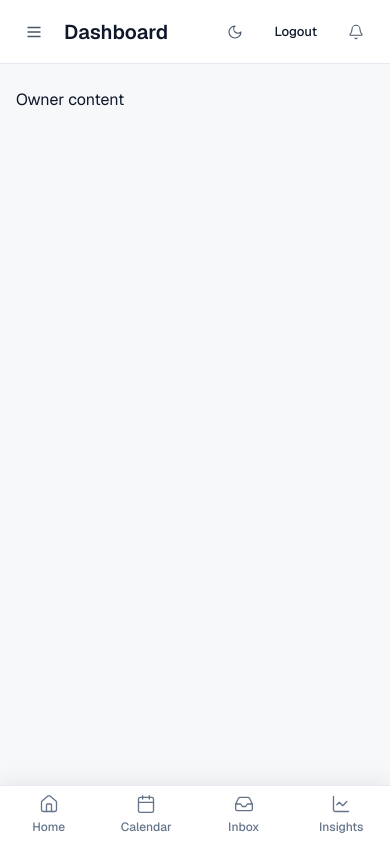
Scenario: owner AppShell mobile navigation › exposes a mobile menu button that opens the full navigation drawer
Click the button with test id "mobile-menu-button" at (34, 32), box left=16, top=14, right=52, bottom=50
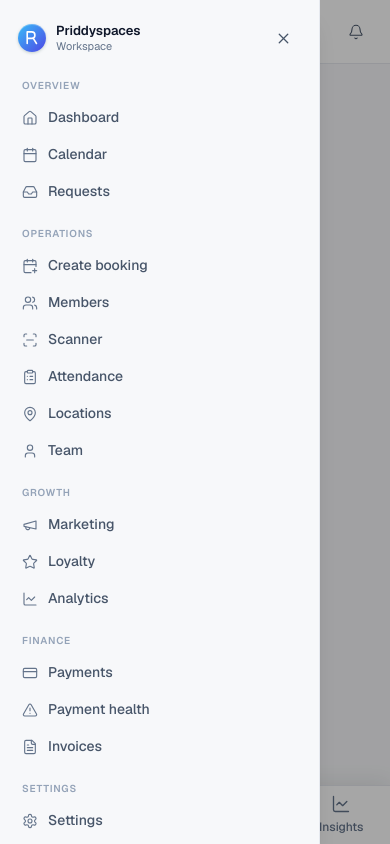
expect the dialog with test id "mobile-sidebar-drawer" is shown: met
expect the text "Scanner" is shown: met, box left=48, top=330, right=103, bottom=348
expect the text "Attendance" is shown: met, box left=48, top=367, right=123, bottom=385
